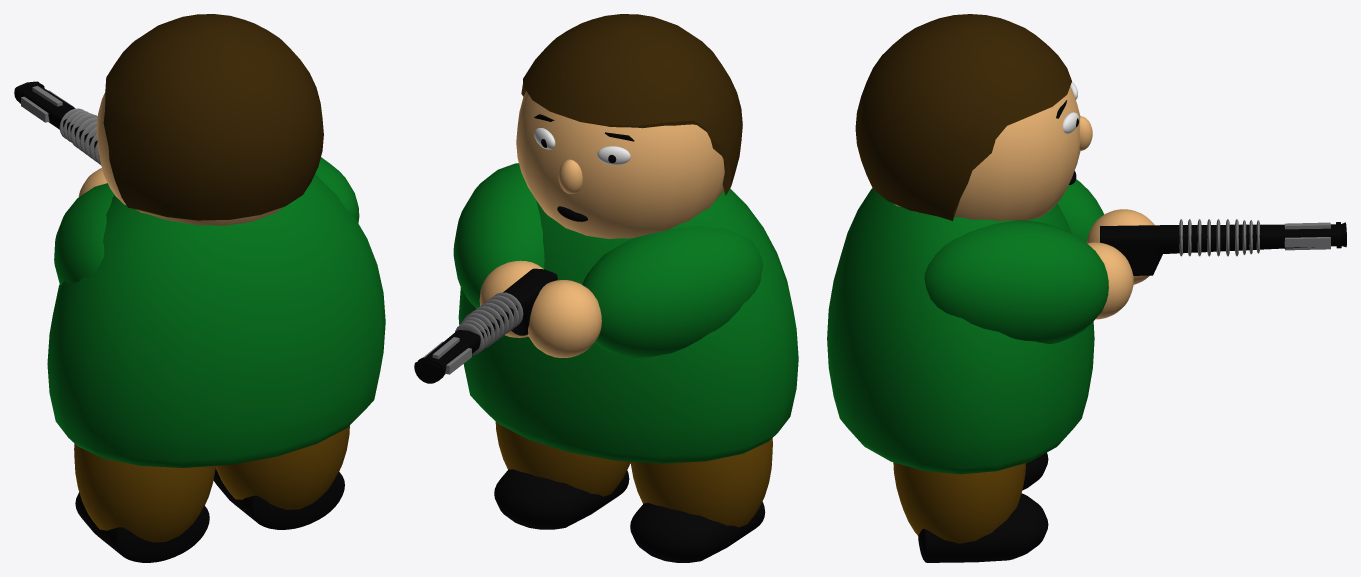
File: enemy.fbx
3 renders of one model, left to right at view 1: azimuth 30°, elevation 25°; view 2: azimuth 150°, elevation 25°; view 3: azimuth 270°, elevation 25°, orthographic.
Visible parts, largest first — view 1: pSphere23; view 2: pSphere23; view 3: pSphere23.
Part boxes in pixels (<box>): pSphere23: <box>14,14,385,562</box>; pSphere23: <box>414,14,798,562</box>; pSphere23: <box>827,14,1346,562</box>.
Size of the model in its own units: 1.5 by 2.32 by 2.19.
